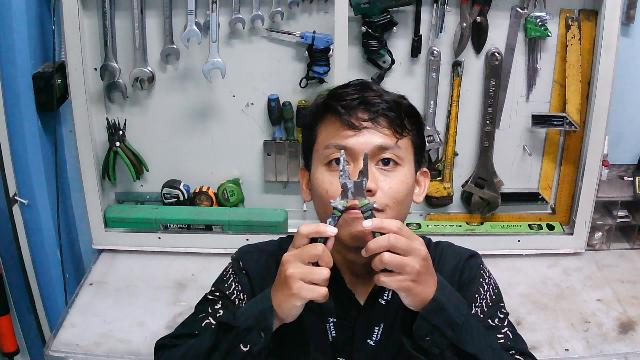tang_kombinasi: (312, 151, 395, 275)
